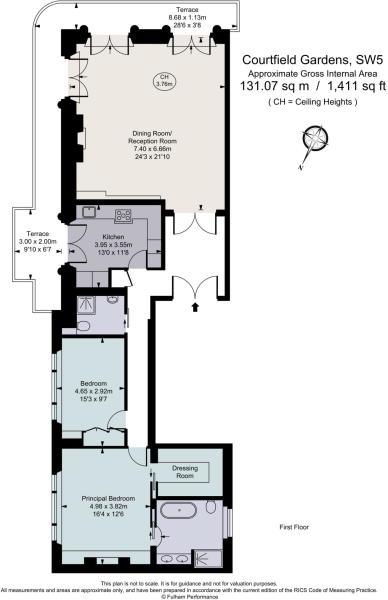GrossArea: (240, 69, 388, 96)
